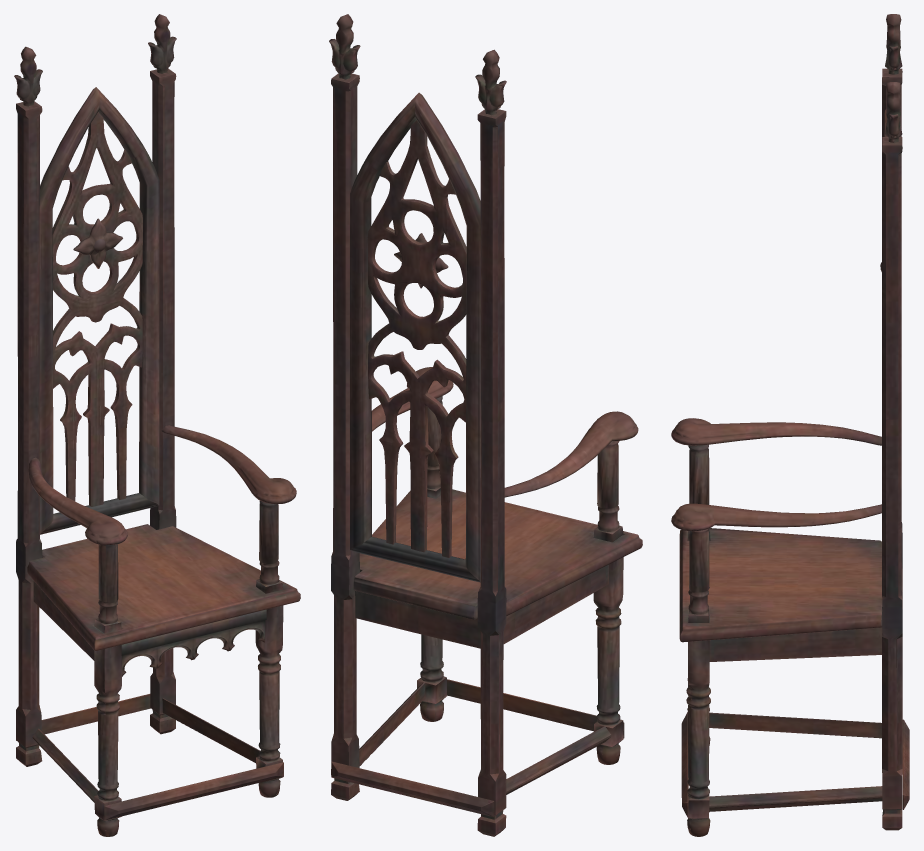
The model's file is WoodenChair_01.glb.
3 views of the same model, side by side, from view 1: azimuth 30°, elevation 25°; view 2: azimuth 150°, elevation 25°; view 3: azimuth 270°, elevation 25° (orthographic). The views are drawn at different scales.
Visible parts, largest first — view 1: WoodenChair_01; view 2: WoodenChair_01; view 3: WoodenChair_01.
Part boxes in pixels (x1,y1,x2,y2): WoodenChair_01: (14,14,300,836); WoodenChair_01: (329,14,642,836); WoodenChair_01: (671,14,909,836).
Size of the model in its own units: 0.6882 by 2.27 by 0.6585.
1 material, 1 textured.
